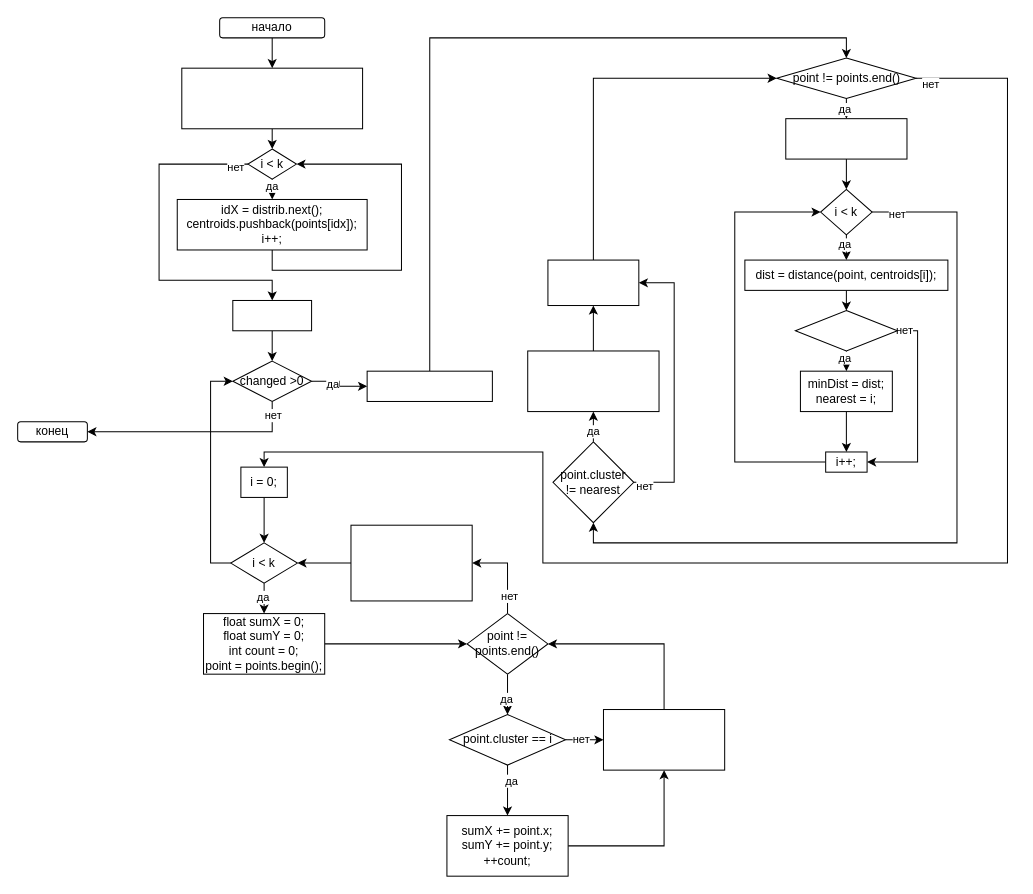
The diagram is 1033 pixels wide and 894 high, and some of its shapes have lost their labels. The centre of each missing label's shape, as x and y in pixels:
"centroids[i] = cout > 0 ? Point(sumX / count, sumY / count) : Point (0,0); i++;" goes at pixel 411 562.
"changed = 0 point = points.begin()" goes at pixel 429 385.
"changed = 1" goes at pixel 272 315.
"dist < minDist" goes at pixel 845 330.
"nearest = -1; minDist = 99999999; i = 0;" goes at pixel 846 138.
"point.cluster = nearest; changed++;" goes at pixel 593 381.
"point.next()" goes at pixel 663 739.
"point.next();" goes at pixel 593 282.
"points = {Point{0,0}...}; k = 10000; distrib = rand(0, points.size()); i = 0;" goes at pixel 272 98.
